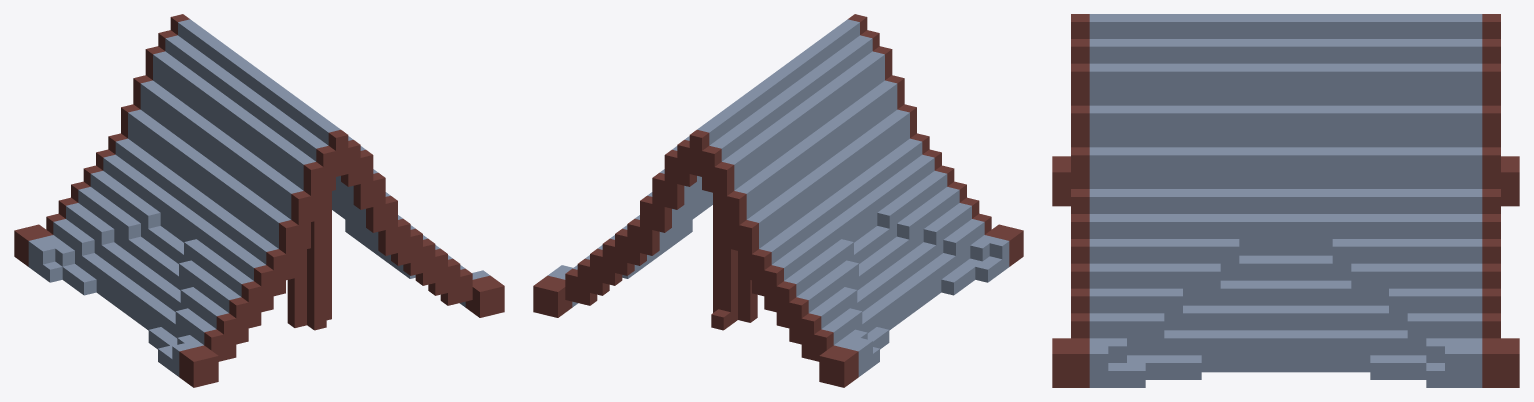
Rendered from tent.obj.
3 renders of one model, left to right at view 1: azimuth 30°, elevation 25°; view 2: azimuth 150°, elevation 25°; view 3: azimuth 270°, elevation 25°, orthographic. The views are drawn at different scales.
Parts seen in each view (by area): view 1: tent; view 2: tent; view 3: tent.
Part boxes in pixels (x1,y1,x2,y2): tent: (14, 14, 504, 387); tent: (533, 14, 1023, 387); tent: (1052, 14, 1519, 387).
Bounding box in the file's own units: 25 × 16 × 25.
Materials: 1 (1 with a texture image).
